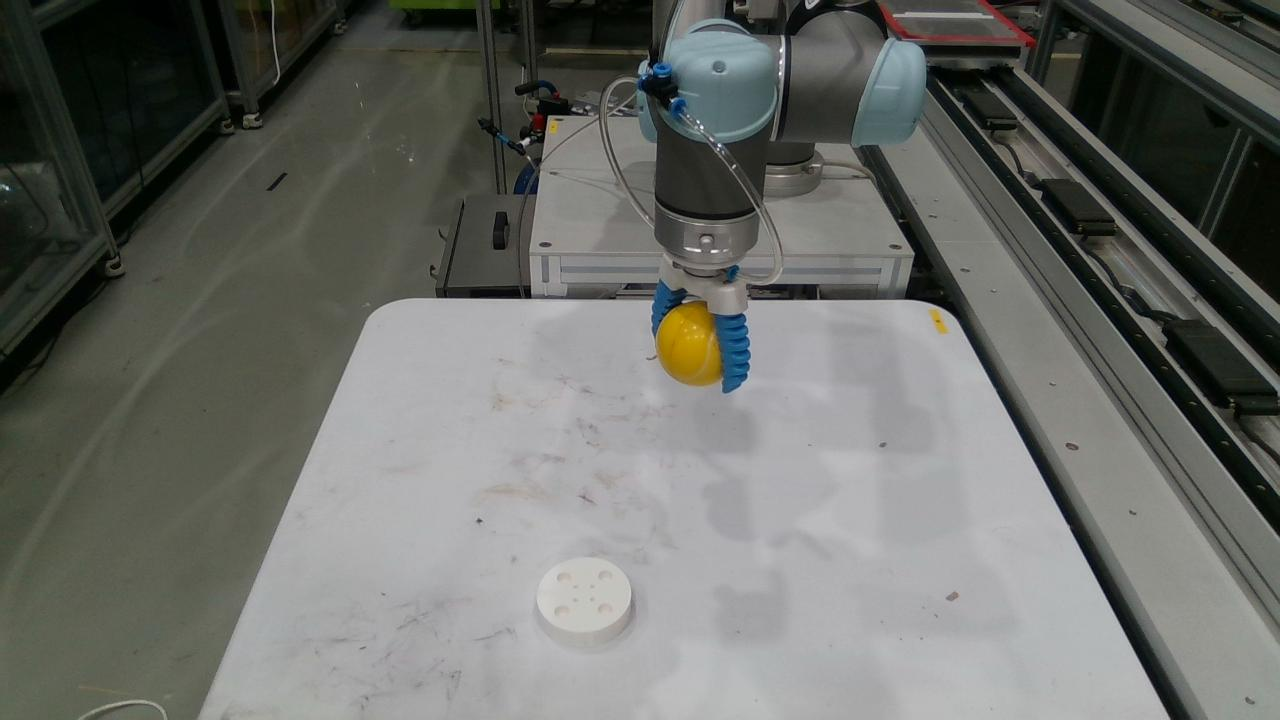UR5: (637, 0, 926, 316)
gripper_left: (650, 280, 686, 335)
gripper_right: (716, 313, 750, 393)
target: (536, 557, 633, 647), (654, 301, 721, 386)
